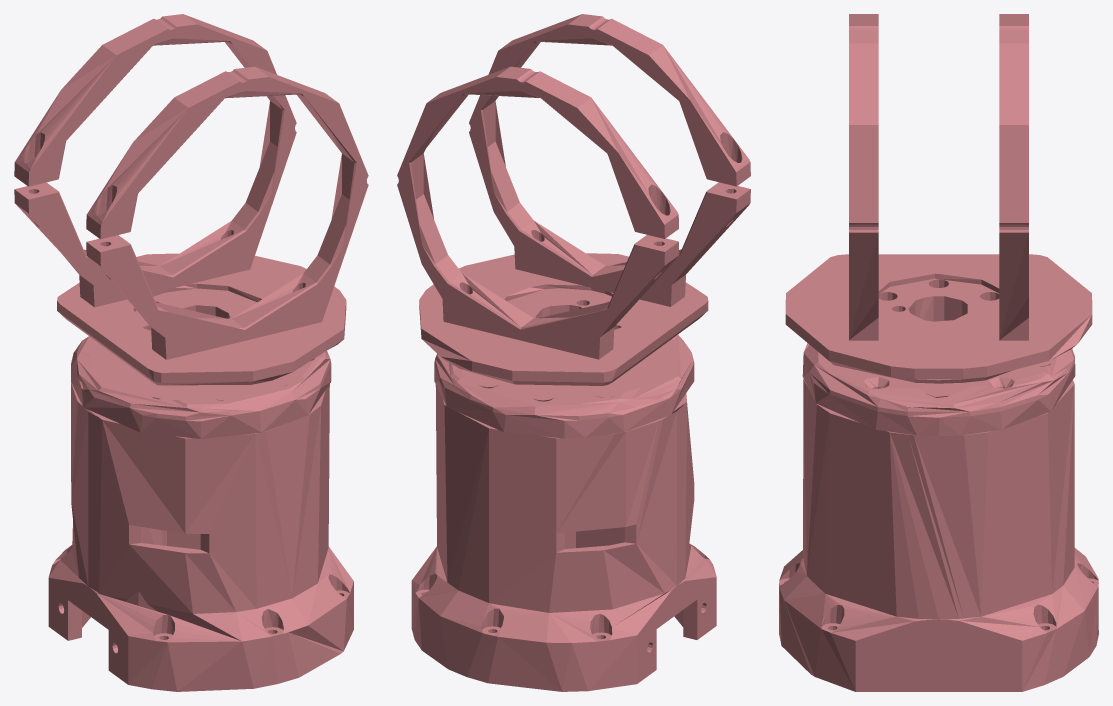
Rendered from neck.dae.
3 renders of one model, left to right at view 1: azimuth 30°, elevation 25°; view 2: azimuth 150°, elevation 25°; view 3: azimuth 270°, elevation 25°, orthographic. The views are drawn at different scales.
Visible parts, largest first — view 1: S3NEK_00_000_S3_2DOF_neck; view 2: S3NEK_00_000_S3_2DOF_neck; view 3: S3NEK_00_000_S3_2DOF_neck.
Part boxes in pixels (<box>): S3NEK_00_000_S3_2DOF_neck: <box>14,14,368,691</box>; S3NEK_00_000_S3_2DOF_neck: <box>397,14,750,691</box>; S3NEK_00_000_S3_2DOF_neck: <box>779,14,1098,691</box>.
Bounding box in the file's own units: 0.07 × 0.068 × 0.1423.
